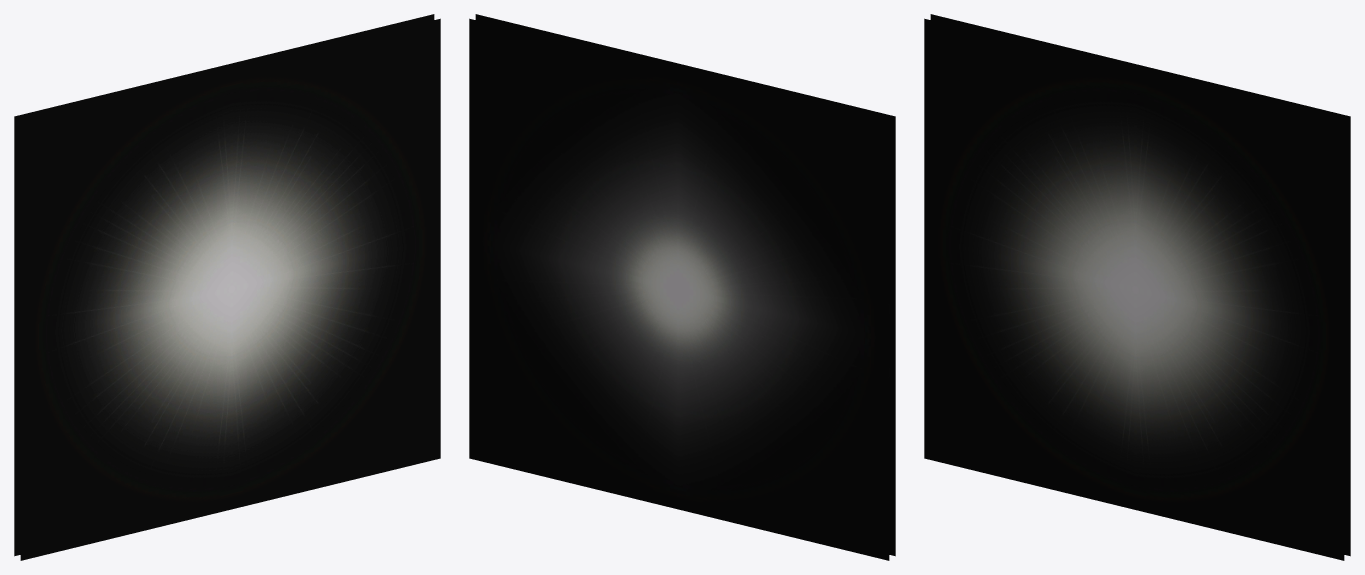
The model's file is mglare.glb.
3 renders of one model, left to right at view 1: azimuth 30°, elevation 25°; view 2: azimuth 150°, elevation 25°; view 3: azimuth 330°, elevation 25°, orthographic.
Visible parts, largest first — view 1: _mglare; view 2: _mglare; view 3: _mglare.
Boxes of the visible parts, x1,y1,x2,y2 form: _mglare: (14,14,440,560); _mglare: (469,14,895,560); _mglare: (924,14,1350,560).
Bounding box in the file's own units: 5.76 × 5.76 × 0.15.
2 materials, 2 textured.
